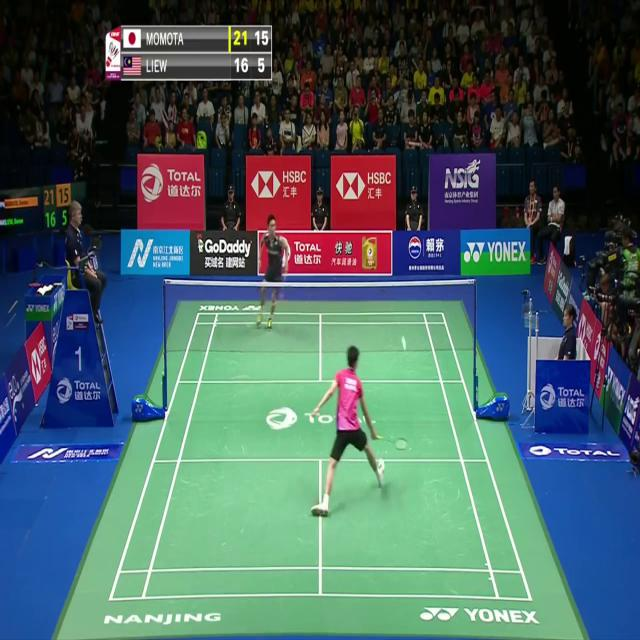Shuttlecock: (402, 335, 408, 346)
